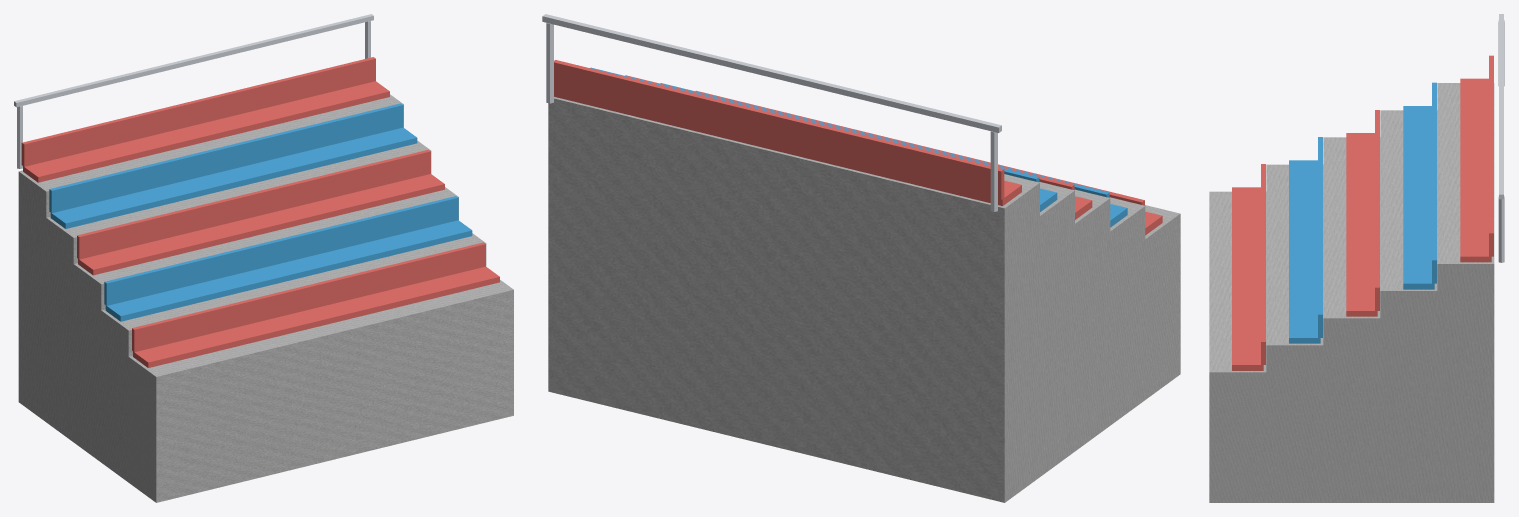
The model's file is velodrome-and-track-cycling-spectator-seating-bay-uppe-5cbae46a__37998.glb.
3 renders of one model, left to right at view 1: azimuth 30°, elevation 25°; view 2: azimuth 150°, elevation 25°; view 3: azimuth 270°, elevation 25°, orthographic. The views are drawn at different scales.
Parts seen in each view (by area): view 1: spectator-seating-bay-upper-apron, spectator-seating-bay-upper-red, spectator-seating-bay-upper-azure, spectator-seating-bay-upper-steel; view 2: spectator-seating-bay-upper-apron, spectator-seating-bay-upper-red, spectator-seating-bay-upper-steel, spectator-seating-bay-upper-azure; view 3: spectator-seating-bay-upper-apron, spectator-seating-bay-upper-red, spectator-seating-bay-upper-azure, spectator-seating-bay-upper-steel.
Part boxes in pixels (x1,y1,x2,y2): spectator-seating-bay-upper-apron: (18,94,513,502); spectator-seating-bay-upper-red: (21,57,499,367); spectator-seating-bay-upper-azure: (49,103,472,321); spectator-seating-bay-upper-steel: (14,14,373,168); spectator-seating-bay-upper-apron: (548,97,1180,502); spectator-seating-bay-upper-red: (554,60,1162,235); spectator-seating-bay-upper-steel: (542,14,1001,211); spectator-seating-bay-upper-azure: (590,67,1127,227); spectator-seating-bay-upper-apron: (1209,83,1494,502); spectator-seating-bay-upper-red: (1232,55,1493,370); spectator-seating-bay-upper-azure: (1289,82,1436,343); spectator-seating-bay-upper-steel: (1498,14,1504,262).
Bounding box in the file's own units: 6 × 4.77 × 4.14.
4 materials, 1 textured.
